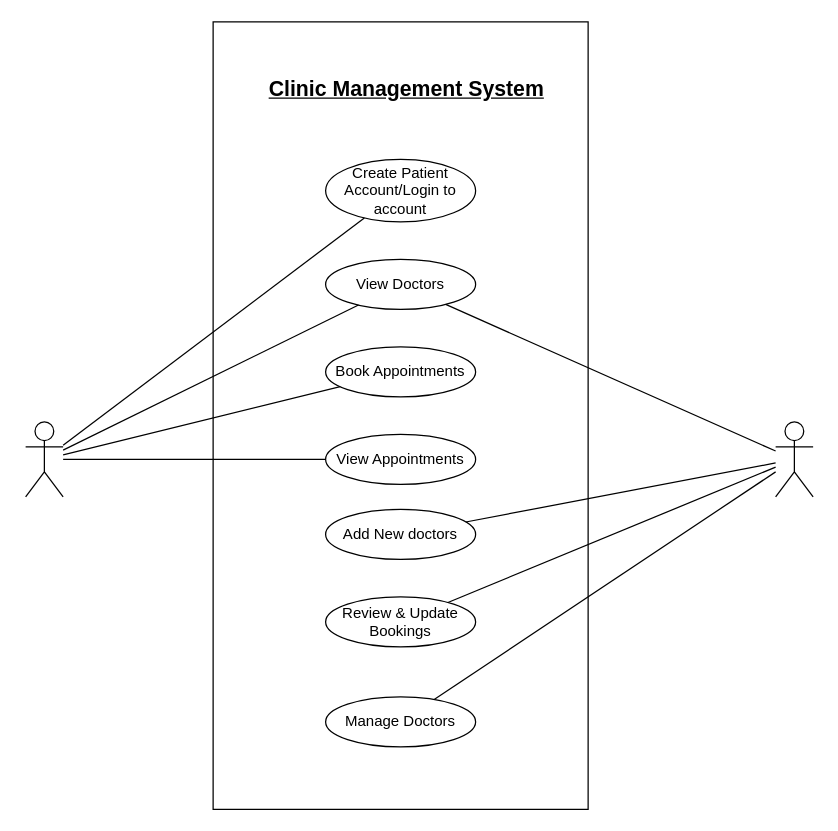
Image size: 838x831. Some labels were removed from this diagram. Here are the shapes that lost their labels. From the top down, the centre of each, then its label:
the point at 43,459: Patient
the point at 793,459: Admin
